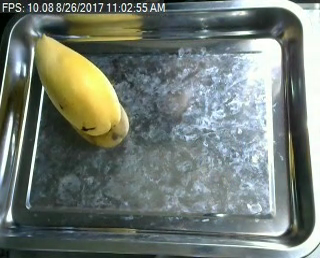Mango: (30, 31, 124, 137)
